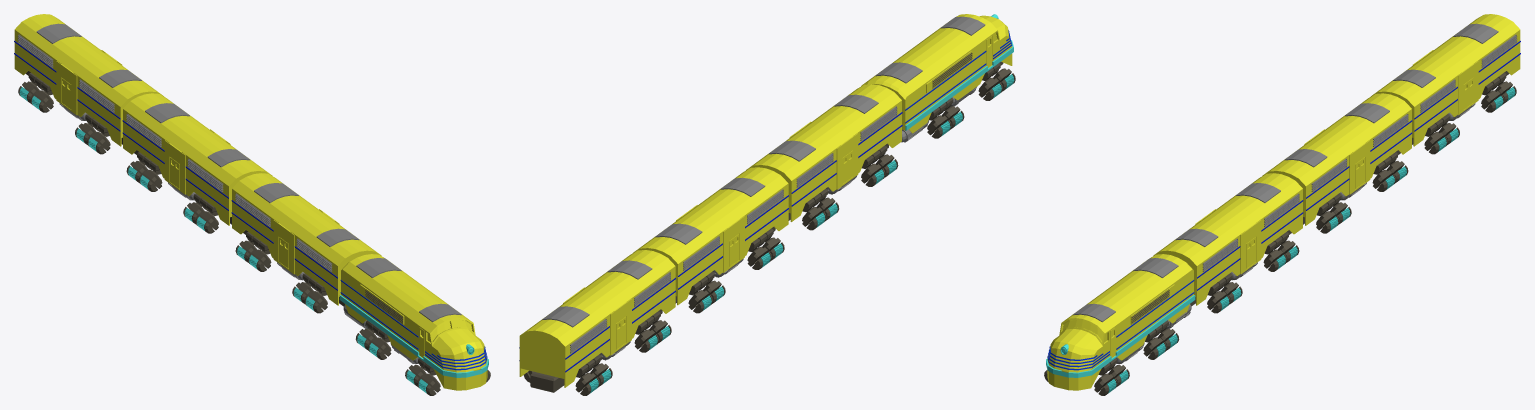
The model's file is train.gltf.
The picture shows the model from 3 angles, left to right: view 1: azimuth 30°, elevation 25°; view 2: azimuth 150°, elevation 25°; view 3: azimuth 330°, elevation 25°; orthographic projection. The views are drawn at different scales.
Parts seen in each view (by area): view 1: Cube.001, Cube.016, Cube.026, Cube.034, Cube.027, Cube.035, Cube.012, Cube.017, Cube.008, Cube.007, Circle.001, Circle.003 (+6 smaller); view 2: Cube.034, Cube.016, Cube.026, Cube.001, Cube.027, Cube.012, Cube.035, Cube.017, Cube.008, Circle.016, Circle.003, Circle.010 (+7 smaller); view 3: Cube.001, Cube.016, Cube.026, Cube.034, Cube.027, Cube.035, Cube.012, Cube.017, Cube.008, Cube.007, Circle.001, Circle.010 (+6 smaller).
Boxes of the visible parts, left/top/right/bottom form: Cube.001: left=341, top=254, right=487, bottom=390; Cube.016: left=232, top=173, right=381, bottom=305; Cube.026: left=123, top=93, right=272, bottom=225; Cube.034: left=14, top=14, right=163, bottom=146; Cube.027: left=145, top=103, right=250, bottom=167; Cube.035: left=36, top=23, right=141, bottom=87; Cube.012: left=356, top=258, right=461, bottom=322; Cube.017: left=254, top=183, right=359, bottom=246; Cube.008: left=339, top=295, right=488, bottom=377; Cube.007: left=340, top=280, right=487, bottom=370; Circle.001: left=405, top=364, right=490, bottom=395; Circle.003: left=355, top=328, right=391, bottom=359; Cube.034: left=519, top=250, right=675, bottom=387; Cube.016: left=746, top=84, right=901, bottom=221; Cube.026: left=633, top=167, right=788, bottom=305; Cube.001: left=861, top=14, right=1012, bottom=133; Cube.027: left=655, top=177, right=765, bottom=244; Cube.012: left=875, top=16, right=985, bottom=83; Cube.035: left=542, top=260, right=652, bottom=327; Cube.017: left=769, top=94, right=878, bottom=161; Cube.008: left=905, top=40, right=1013, bottom=130; Circle.016: left=523, top=363, right=612, bottom=395; Circle.003: left=927, top=106, right=964, bottom=138; Circle.010: left=802, top=197, right=839, bottom=230; Cube.001: left=1047, top=254, right=1193, bottom=390; Cube.016: left=1153, top=173, right=1302, bottom=305; Cube.026: left=1262, top=93, right=1411, bottom=225; Cube.034: left=1371, top=14, right=1520, bottom=146; Cube.027: left=1284, top=103, right=1389, bottom=167; Cube.035: left=1393, top=23, right=1498, bottom=87; Cube.012: left=1073, top=258, right=1178, bottom=322; Cube.017: left=1175, top=183, right=1280, bottom=246; Cube.008: left=1046, top=295, right=1195, bottom=377; Cube.007: left=1047, top=280, right=1194, bottom=370; Circle.001: left=1044, top=364, right=1129, bottom=395; Circle.010: left=1263, top=240, right=1299, bottom=271.
Size of the model in its own units: 8.72 by 8.62 by 103.
